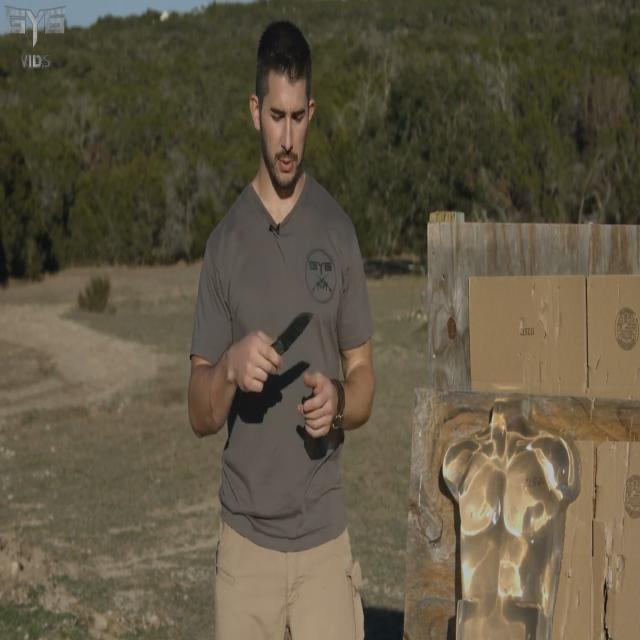knife: (270, 307, 318, 361)
